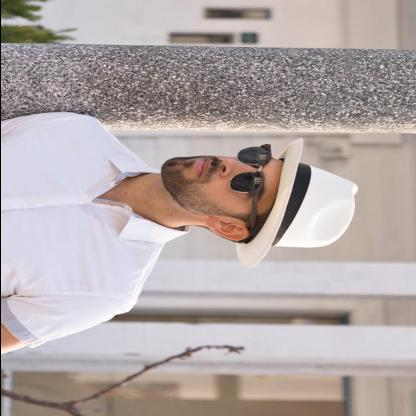hat: (230, 136, 361, 270)
sunglasses: (232, 142, 272, 232)
